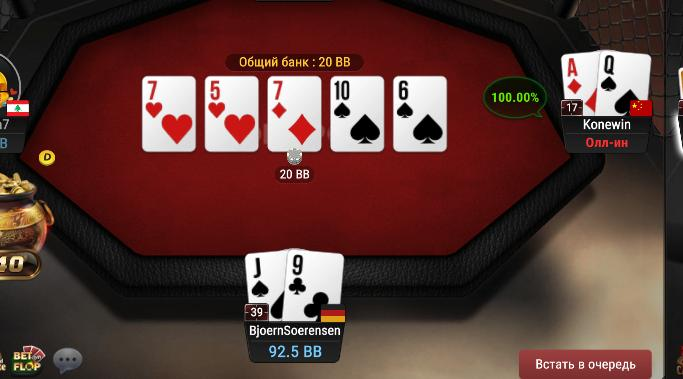10s: (331, 76, 382, 152)
5h: (206, 76, 258, 154)
6s: (394, 75, 448, 152)
7d: (268, 78, 320, 152)
7h: (143, 76, 195, 152)
9c: (285, 247, 343, 323)
Ad: (561, 53, 598, 115)
Js: (243, 253, 284, 324)
Qs: (598, 49, 652, 116)
